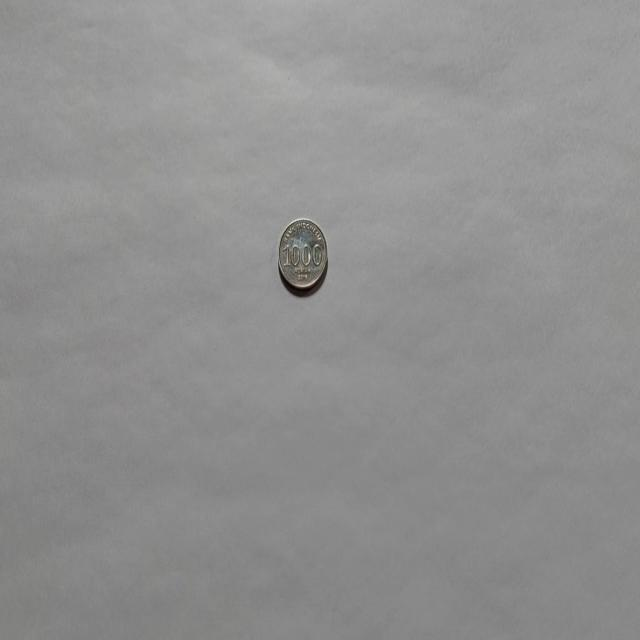seribu rupiah koin: (276, 215, 328, 292)
